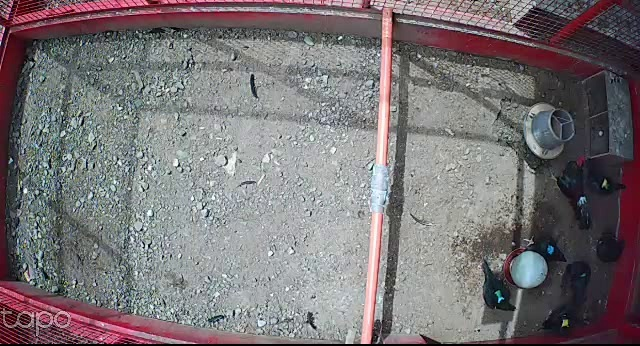Chicken: (476, 260, 519, 313), (536, 301, 590, 338), (554, 260, 594, 305), (520, 232, 568, 265), (585, 229, 627, 266), (584, 160, 626, 197)
Feeder: (521, 102, 577, 160)
Rooster: (545, 153, 594, 232)
Saddle_Color_Blue: (545, 244, 555, 255)
Saddle_Color_Yellow: (600, 177, 612, 190), (561, 318, 571, 328)
